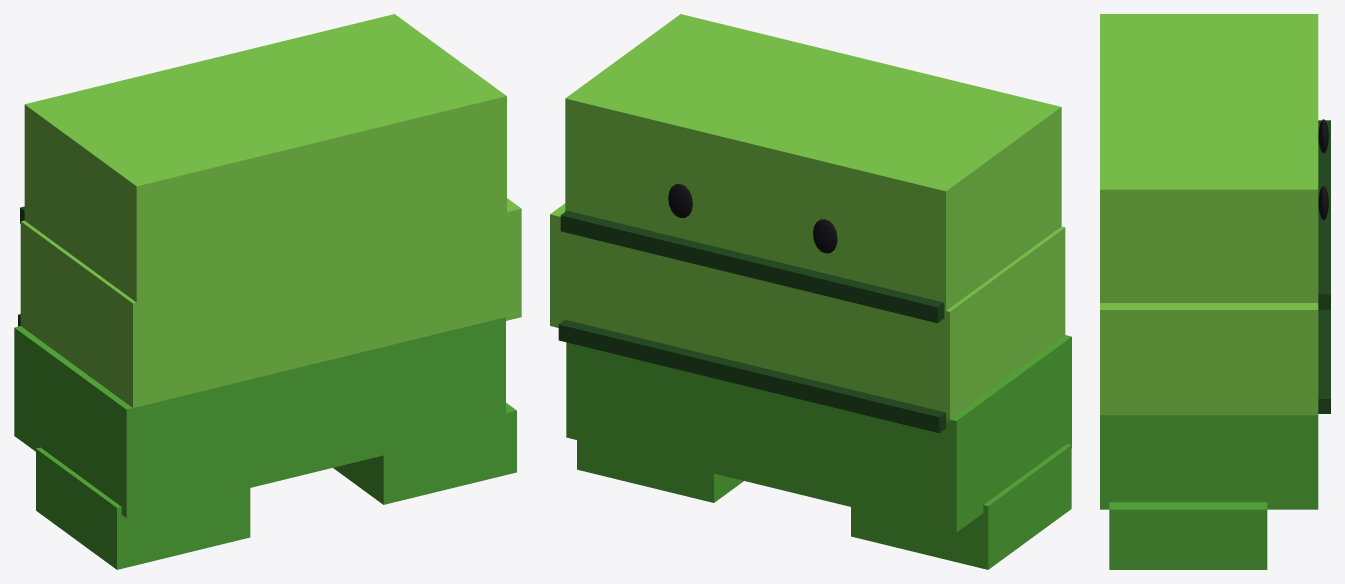
File: BrickBruiser_Enemy.glb
The picture shows the model from 3 angles, left to right: view 1: azimuth 30°, elevation 25°; view 2: azimuth 150°, elevation 25°; view 3: azimuth 270°, elevation 25°; orthographic projection. The views are drawn at different scales.
Parts seen in each view (by area): view 1: BrickTop, BrickBottom, BrickMiddle, HeavyFootL, HeavyFootR; view 2: BrickTop, BrickBottom, BrickMiddle, HeavyFootL, LowerBrickSeam, UpperBrickSeam, HeavyFootR, DotEyeL, DotEyeR; view 3: BrickTop, BrickMiddle, BrickBottom, HeavyFootR, UpperBrickSeam, LowerBrickSeam.
Boxes of the visible parts, x1,y1,x2,y2 form: BrickTop: [24, 14, 506, 302]; BrickBottom: [14, 317, 505, 517]; BrickMiddle: [20, 198, 521, 407]; HeavyFootL: [36, 447, 250, 569]; HeavyFootR: [333, 403, 516, 504]; BrickTop: [565, 14, 1061, 310]; BrickBottom: [566, 335, 1071, 532]; BrickMiddle: [550, 203, 1065, 423]; HeavyFootL: [851, 444, 1071, 569]; LowerBrickSeam: [558, 319, 945, 433]; UpperBrickSeam: [560, 210, 944, 323]; HeavyFootR: [577, 440, 743, 502]; DotEyeL: [813, 219, 837, 253]; DotEyeR: [668, 184, 692, 217]; BrickTop: [1100, 14, 1318, 302]; BrickMiddle: [1100, 303, 1318, 415]; BrickBottom: [1100, 415, 1318, 509]; HeavyFootR: [1109, 502, 1267, 569]; UpperBrickSeam: [1318, 120, 1330, 309]; LowerBrickSeam: [1318, 309, 1330, 413].
Bounding box in the file's own units: 2.16 × 1.98 × 1.11.
